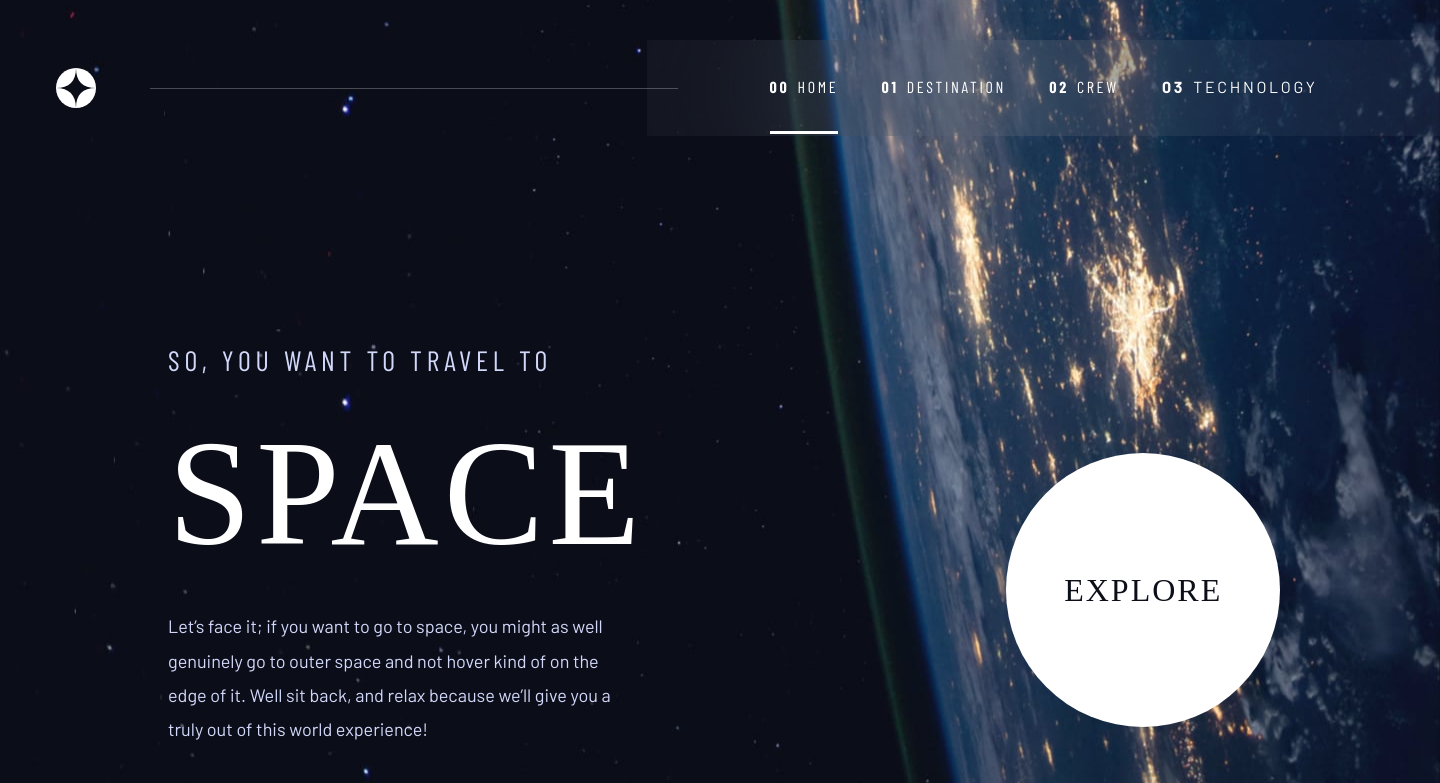
Scenario: Home Page › Expore button can be clicked
Click the link with class "home__large-button-container__large-button" at (1143, 590), box [1006,453,1280,727]
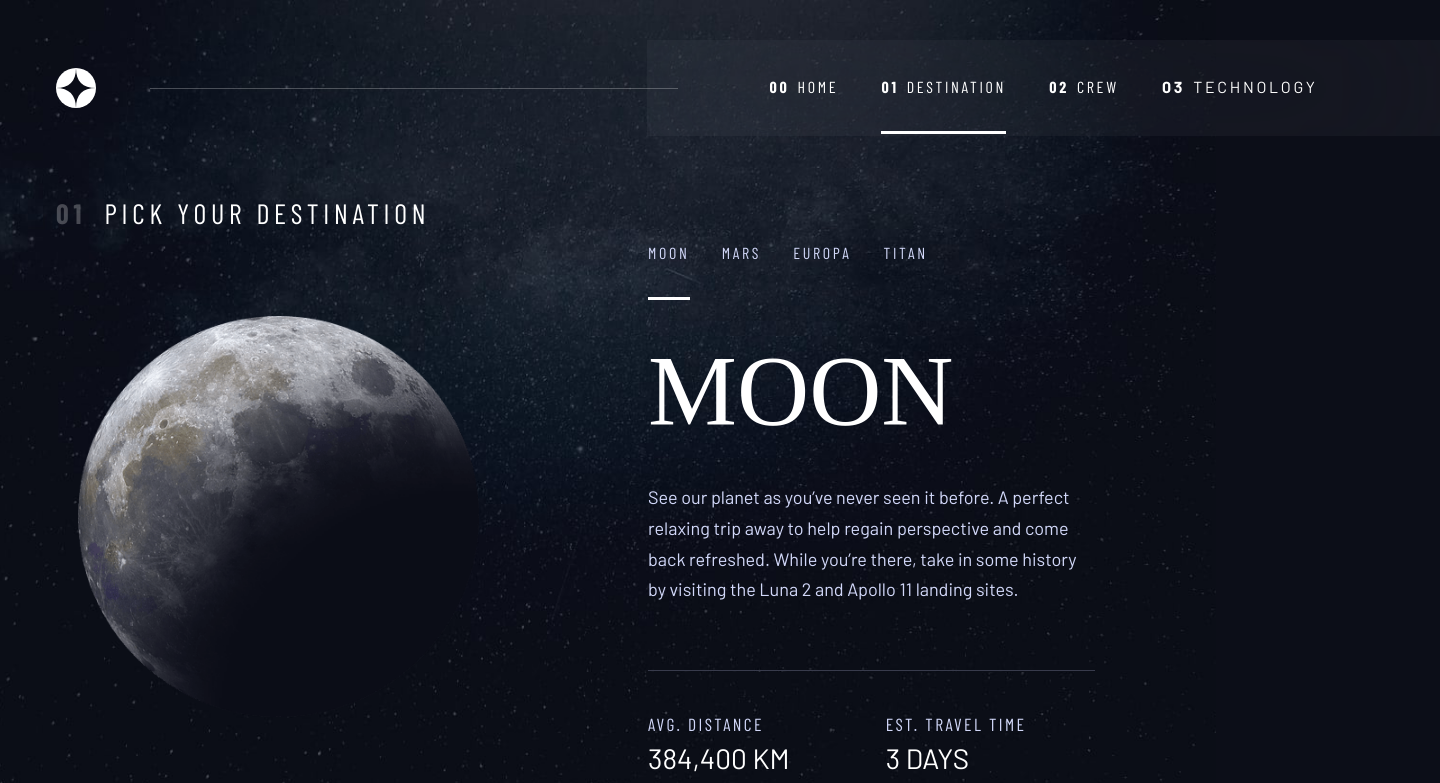
Expected: the heading "01 Pick Your Destination" is shown, [56,192,430,234]
Expected: the button "Moon" is shown, [648,208,690,300]
